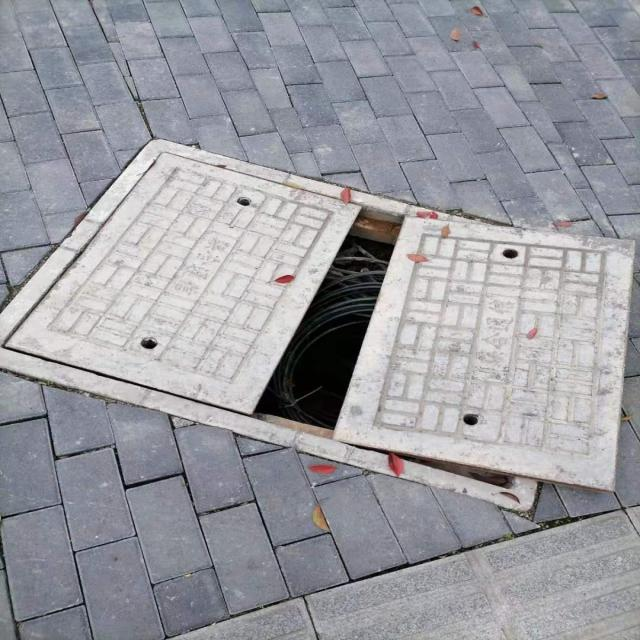Faulty: (3, 137, 638, 518)
